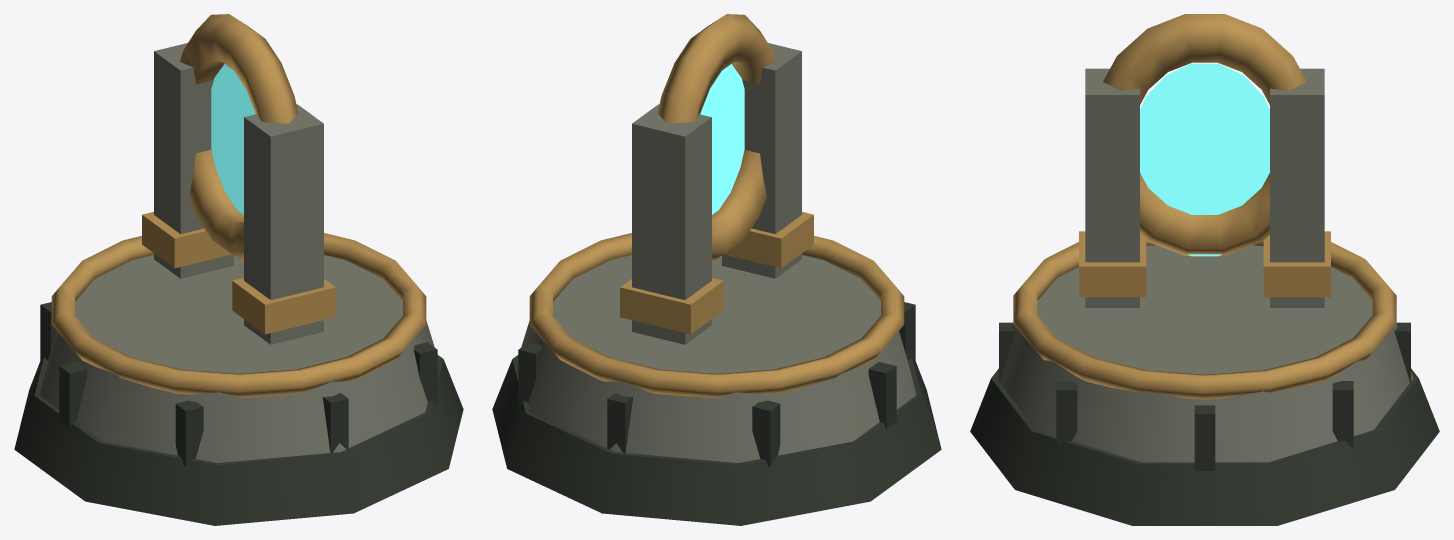
The model's file is tower_portal.glb.
3 renders of one model, left to right at view 1: azimuth 30°, elevation 25°; view 2: azimuth 150°, elevation 25°; view 3: azimuth 270°, elevation 25°, orthographic. The views are drawn at different scales.
Visible parts, largest first — view 1: stone_1, foot_0, rim_2, arch_pillar_11, arch_15, arch_pillar_13, portal_surface_16, band_12, band_14, mortar_6, mortar_7, mortar_5 (+2 smaller); view 2: stone_1, foot_0, rim_2, arch_pillar_13, arch_15, arch_pillar_11, portal_surface_16, band_14, band_12, mortar_8, mortar_7, mortar_9 (+2 smaller); view 3: stone_1, foot_0, portal_surface_16, arch_15, rim_2, arch_pillar_11, arch_pillar_13, band_12, band_14, mortar_3, mortar_4, mortar_10 (+2 smaller).
Part boxes in pixels (x1,y1,x2,y2): stone_1: [39, 255, 438, 462]; foot_0: [14, 355, 463, 525]; rim_2: [51, 233, 426, 397]; arch_pillar_11: [244, 104, 323, 344]; arch_15: [179, 14, 298, 261]; arch_pillar_13: [154, 43, 233, 278]; portal_surface_16: [211, 64, 255, 214]; band_12: [232, 278, 335, 334]; band_14: [142, 212, 231, 268]; mortar_6: [175, 400, 203, 466]; mortar_7: [59, 362, 87, 428]; mortar_5: [322, 393, 348, 452]; stone_1: [517, 255, 916, 462]; foot_0: [492, 355, 941, 525]; rim_2: [529, 233, 904, 397]; arch_pillar_13: [632, 104, 711, 344]; arch_15: [657, 14, 776, 261]; arch_pillar_11: [722, 43, 801, 278]; portal_surface_16: [700, 64, 744, 214]; band_14: [620, 278, 723, 334]; band_12: [724, 212, 813, 268]; mortar_8: [752, 400, 780, 466]; mortar_7: [868, 362, 896, 428]; mortar_9: [607, 393, 633, 452]; stone_1: [996, 245, 1413, 462]; foot_0: [970, 368, 1439, 525]; portal_surface_16: [1140, 63, 1269, 256]; arch_15: [1103, 14, 1306, 255]; rim_2: [1013, 241, 1396, 399]; arch_pillar_11: [1085, 68, 1139, 307]; arch_pillar_13: [1270, 68, 1324, 307]; band_12: [1079, 231, 1146, 297]; band_14: [1263, 231, 1330, 297]; mortar_3: [1194, 405, 1215, 470]; mortar_4: [1056, 381, 1077, 446]; mortar_10: [1332, 381, 1353, 446].
Size of the model in its own units: 0.5326 by 0.5492 by 0.56.
